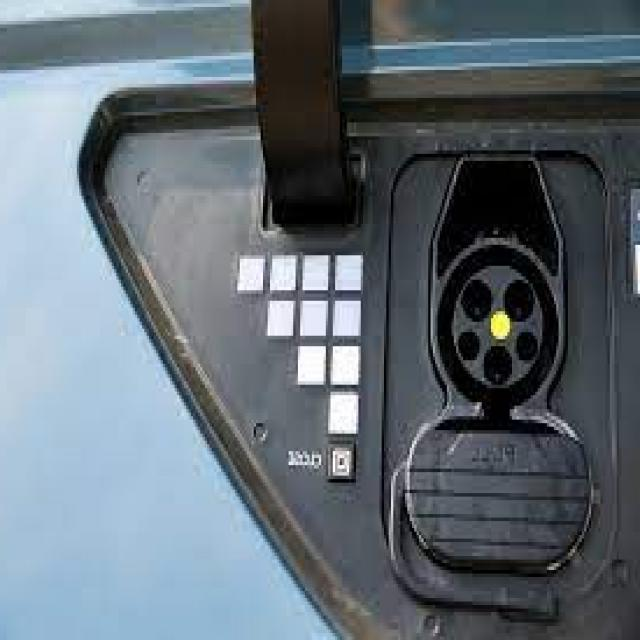CCS1: (392, 226, 606, 577)
